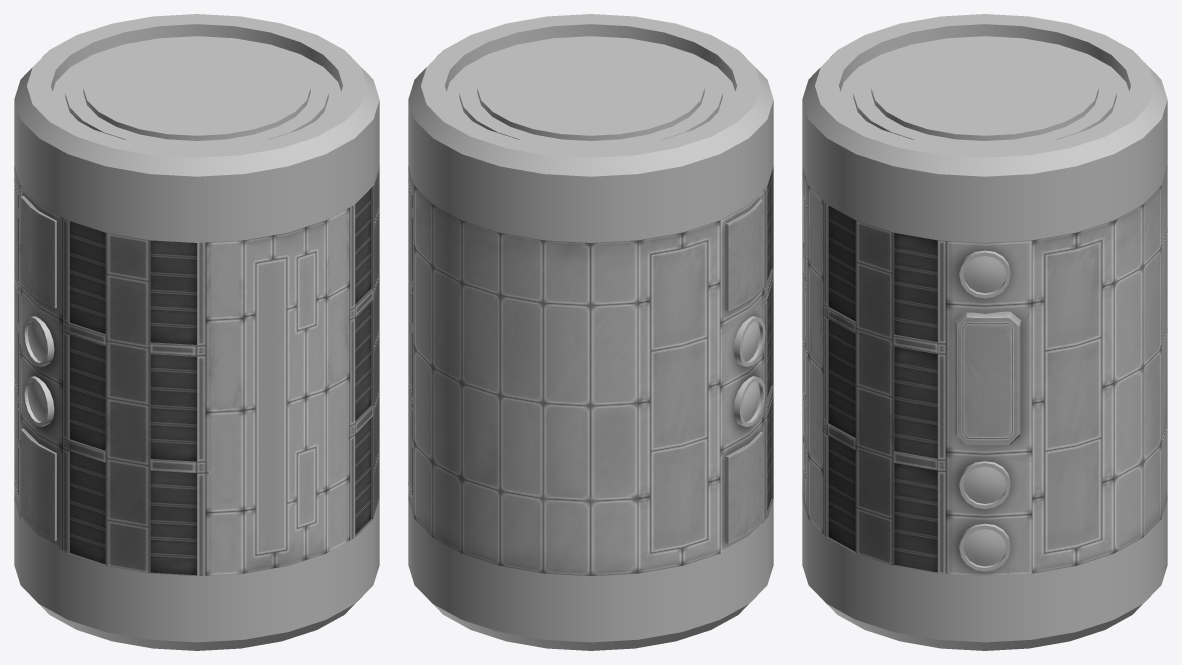
Rendered from MOL_Hab.dae.
3 views of the same model, side by side, from view 1: azimuth 30°, elevation 25°; view 2: azimuth 150°, elevation 25°; view 3: azimuth 270°, elevation 25° (orthographic).
Parts seen in each view (by area): view 1: LivingQuarters1_pCube26, polySurface17, polySurface16, LivingQuarters1_MOL_Window16; view 2: LivingQuarters1_pCube26, polySurface17, polySurface16, LivingQuarters1_MOL_Window16; view 3: LivingQuarters1_pCube26, polySurface17, polySurface16, LivingQuarters1_MOL_Window16.
Part boxes in pixels (x1,y1,x2,y2): LivingQuarters1_pCube26: (14, 166, 379, 575); polySurface17: (14, 14, 379, 650); polySurface16: (83, 39, 310, 135); LivingQuarters1_MOL_Window16: (22, 316, 54, 426); LivingQuarters1_pCube26: (408, 166, 773, 575); polySurface17: (408, 14, 773, 650); polySurface16: (477, 39, 704, 135); LivingQuarters1_MOL_Window16: (733, 316, 765, 426); LivingQuarters1_pCube26: (802, 166, 1167, 575); polySurface17: (802, 14, 1167, 650); polySurface16: (871, 39, 1098, 135); LivingQuarters1_MOL_Window16: (959, 250, 1010, 571).
Size of the model in its own units: 2.06 by 3 by 2.01.
